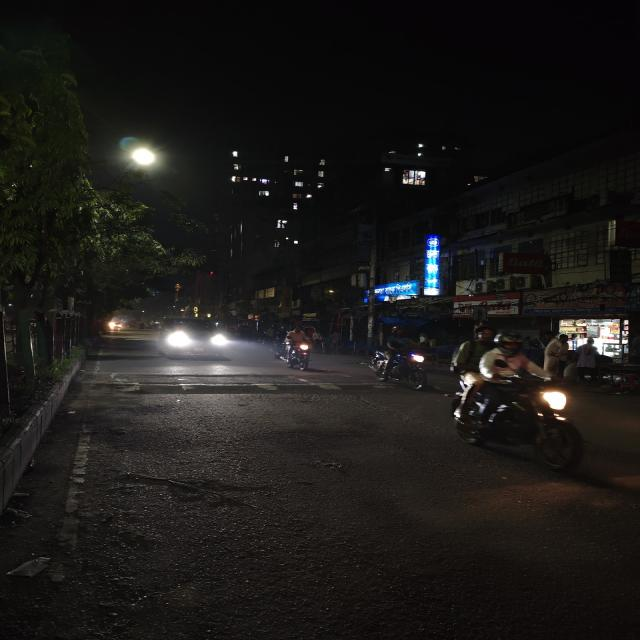car: (153, 315, 235, 365)
motorcycle: (442, 325, 594, 477), (366, 336, 434, 392), (273, 327, 315, 371)
